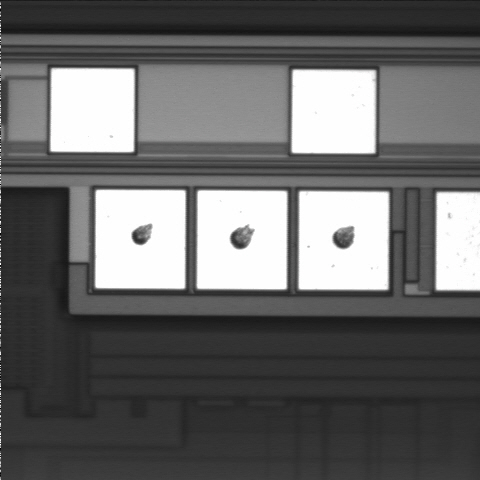pad: (95, 190, 186, 289), (197, 190, 287, 289), (299, 191, 389, 290), (51, 69, 134, 152), (292, 70, 375, 153)
